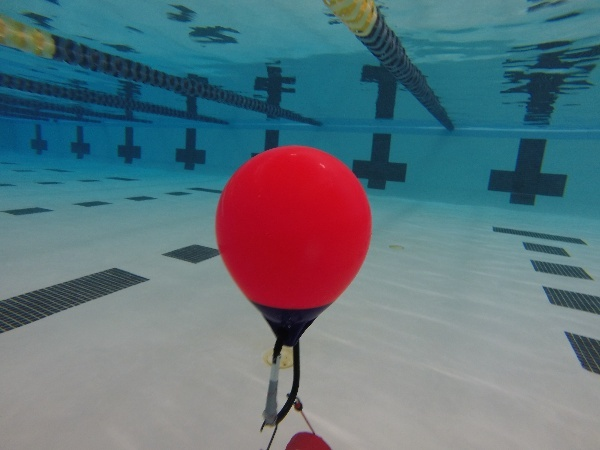buoy_red: (210, 143, 377, 352)
